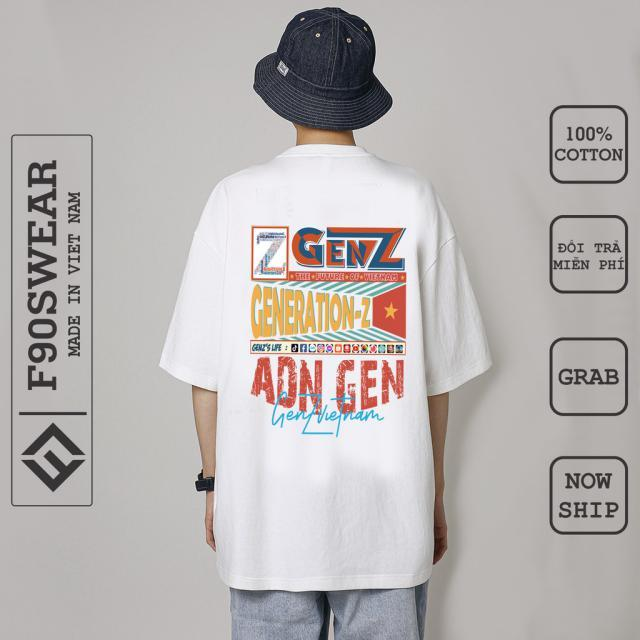Shirt: (158, 140, 491, 584)
